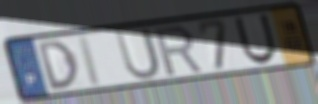7: (195, 17, 229, 72)
D: (34, 38, 81, 93)
I: (76, 33, 105, 89)
R: (151, 23, 205, 78)
U: (113, 26, 163, 82), (232, 12, 279, 66)
